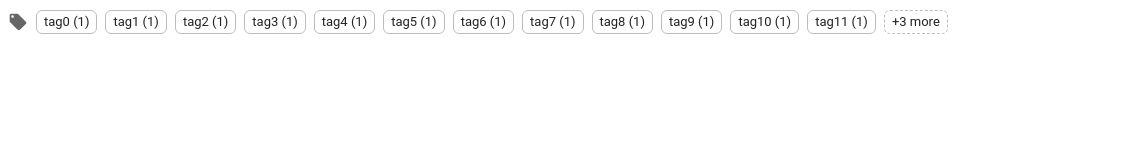
collapses a long tag list behind a "more" chip
Check: the text "tag14 (1)" is not shown
Click the button "+3 more" at x=916, y=22, box top-left (884, 10), bottom-right (948, 34)
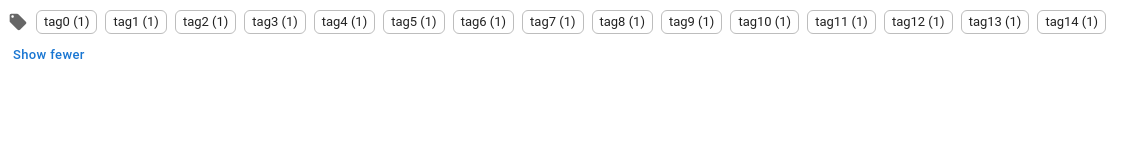
Check: the text "tag14 (1)" is shown, box top-left (1045, 14), bottom-right (1098, 29)
